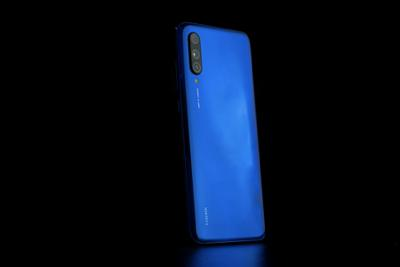cell-phone: (171, 21, 275, 246)
